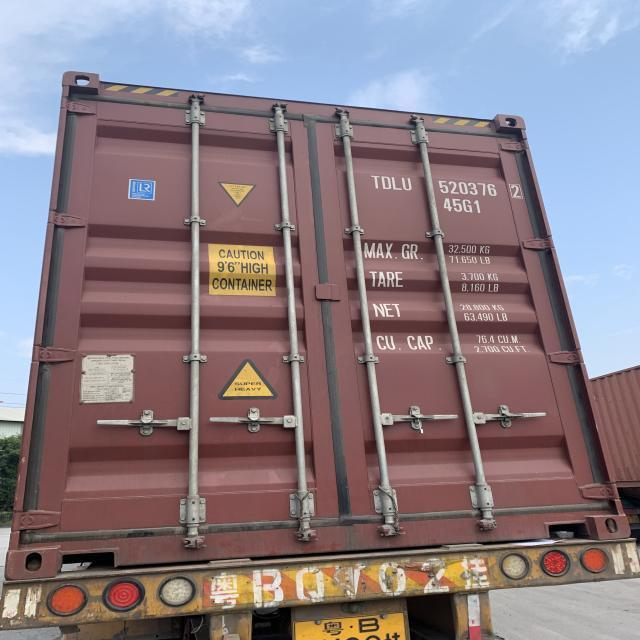ISO: (443, 198, 483, 216)
container_number: (376, 177, 518, 197)
